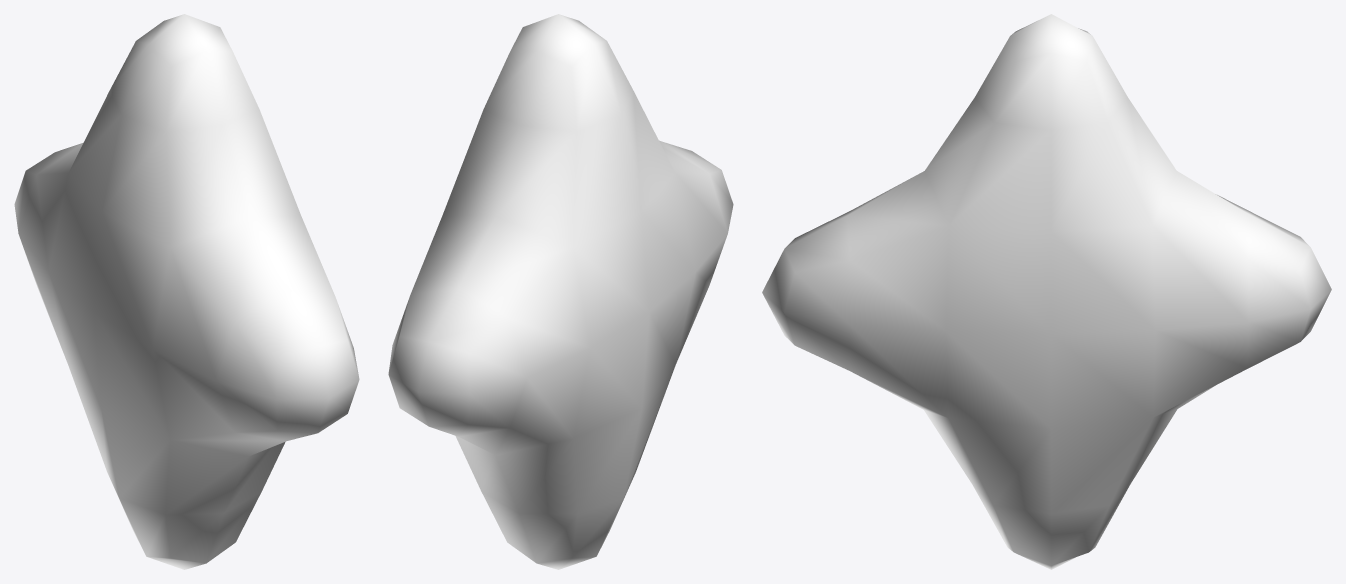
The picture shows the model from 3 angles, left to right: view 1: azimuth 30°, elevation 25°; view 2: azimuth 150°, elevation 25°; view 3: azimuth 270°, elevation 25°; orthographic projection.
Parts seen in each view (by area): view 1: 立方体; view 2: 立方体; view 3: 立方体.
Part boxes in pixels (x1,y1,x2,y2): 立方体: (14,14,359,569); 立方体: (388,14,733,569); 立方体: (762,14,1331,569).
Bounding box in the file's own units: 163 × 477 × 444.
Materials: 1 (1 with a texture image).
